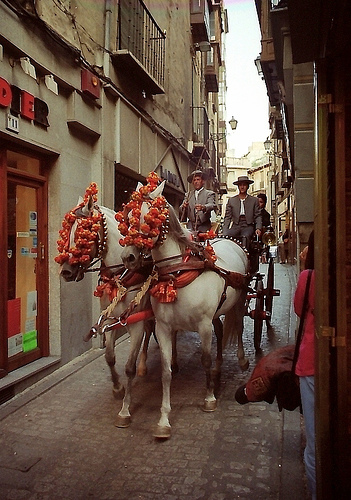horse: (111, 175, 253, 441), (52, 179, 182, 403)
